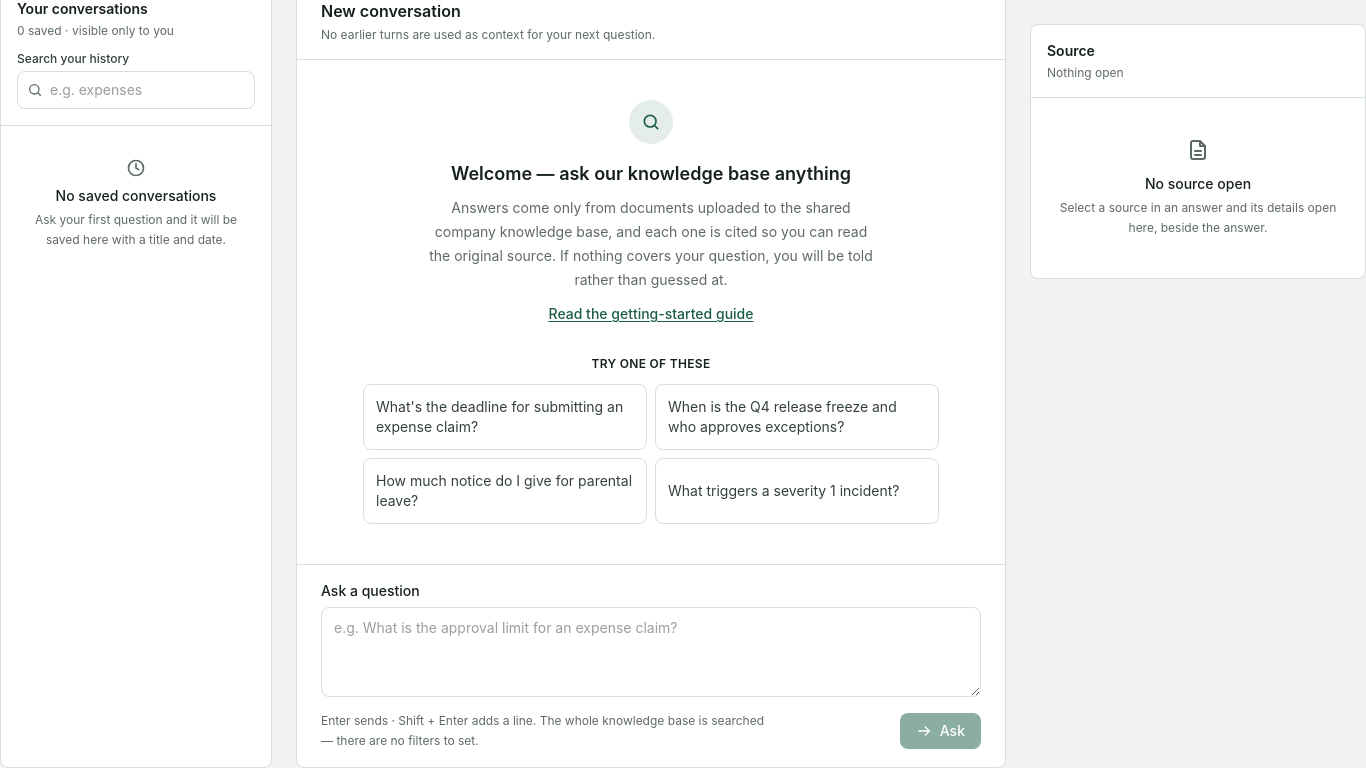
Scenario: Chat screen › shows a clear error and does not present the partial text as complete (AC-093)
(page scrolled)
Type "A question that fails" into the text box labelled "Ask a question" at x=651, y=652, box [321,607,981,697]
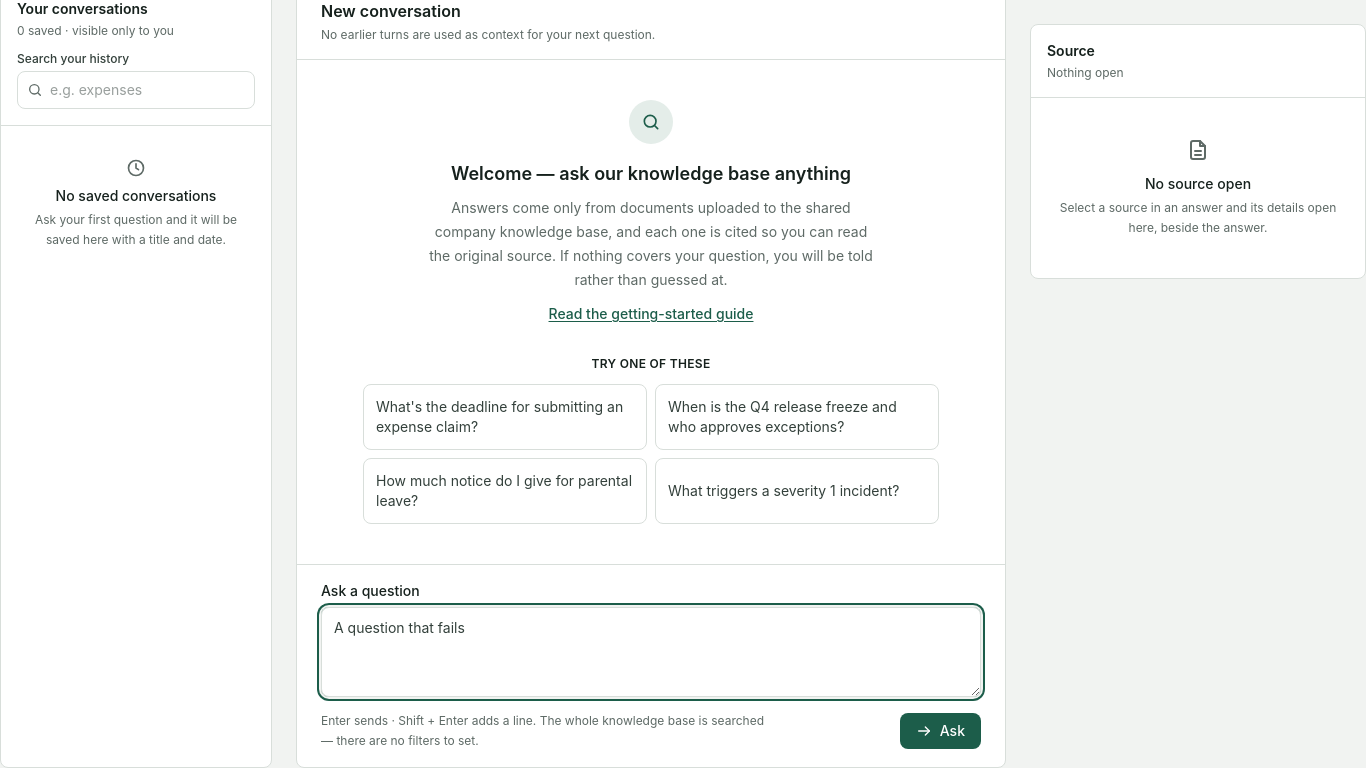
Click the button "Ask" at x=940, y=731, box [900,713,981,749]
(page scrolled)
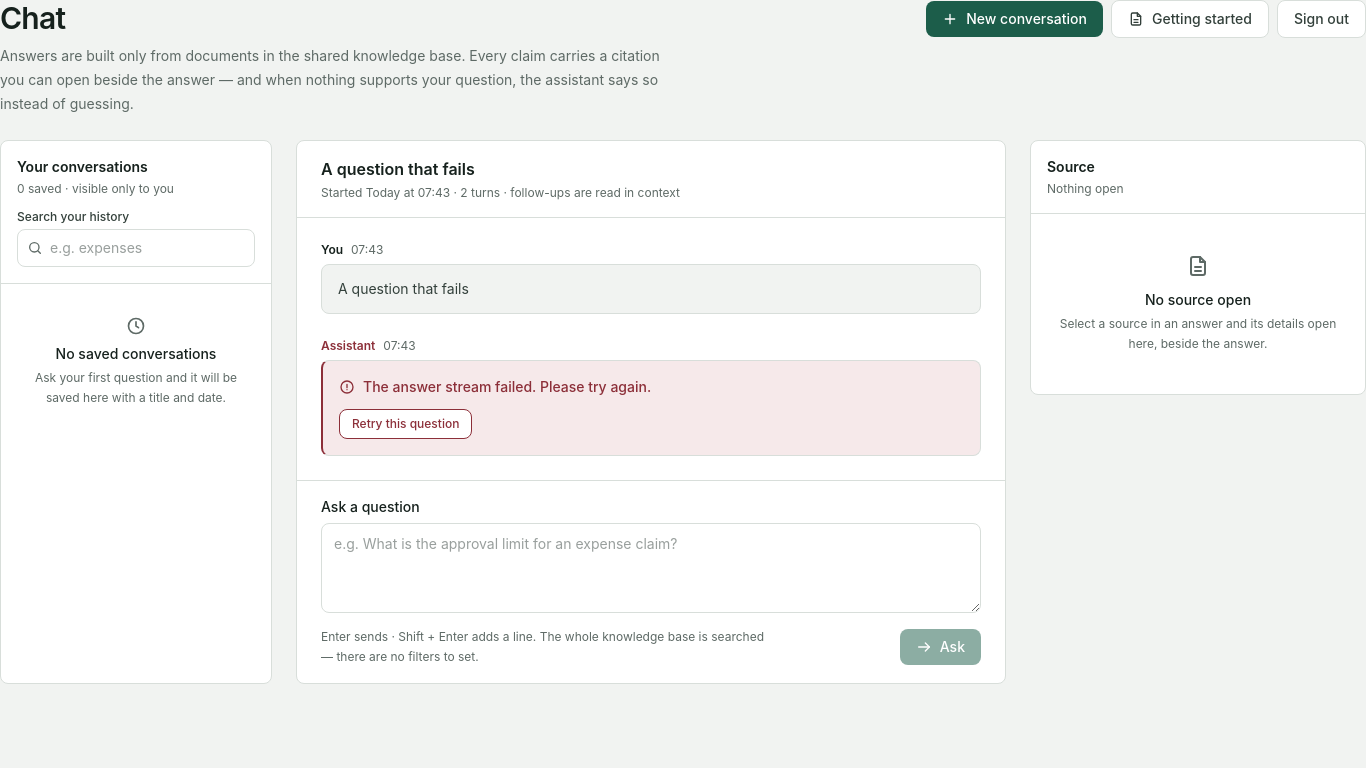
Expected: the text box labelled "Ask a question" is enabled, [321,523,981,613]
Expected: the message shows "failed", [363,378,651,395]
Expected: the button "Retry this question" is shown, [339,409,472,439]
